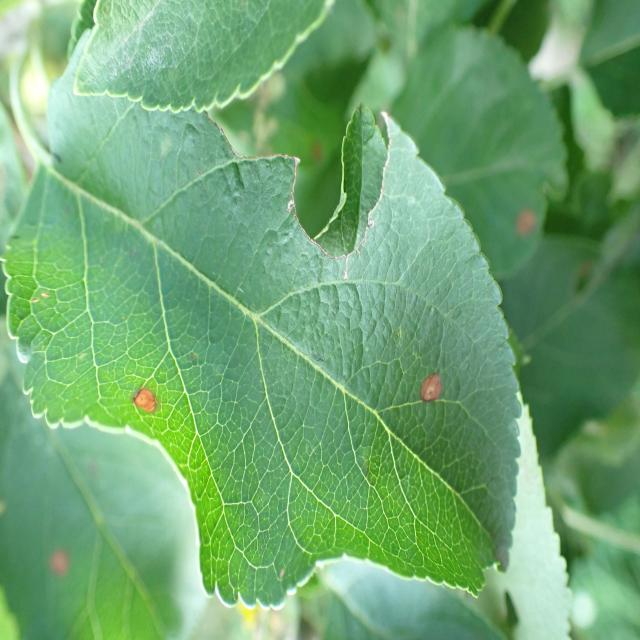frog-eye-leaf-spot: (3, 25, 524, 612)
